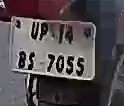0: (55, 53, 65, 75)
1: (59, 23, 64, 44)
4: (65, 27, 75, 46)
5: (75, 54, 87, 79), (65, 55, 76, 76)
7: (45, 50, 55, 74)
B: (16, 50, 27, 68)
P: (40, 21, 48, 45)
S: (27, 50, 39, 72)
U: (30, 21, 39, 40)
